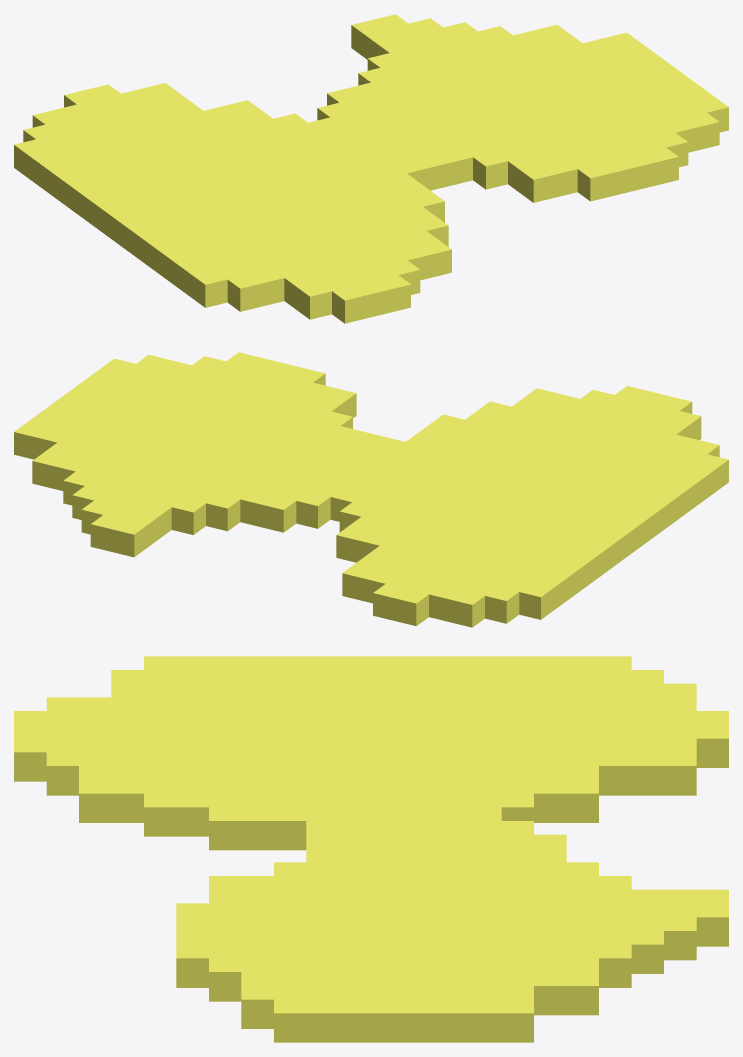
Rendered from RexPee2.obj.
3 renders of one model, top to bottom at view 1: azimuth 30°, elevation 25°; view 2: azimuth 150°, elevation 25°; view 3: azimuth 270°, elevation 25°, orthographic. The views are drawn at different scales.
Bounding box in the file's own units: 2.6 × 0.1 × 2.2.
1 material, 1 textured.
